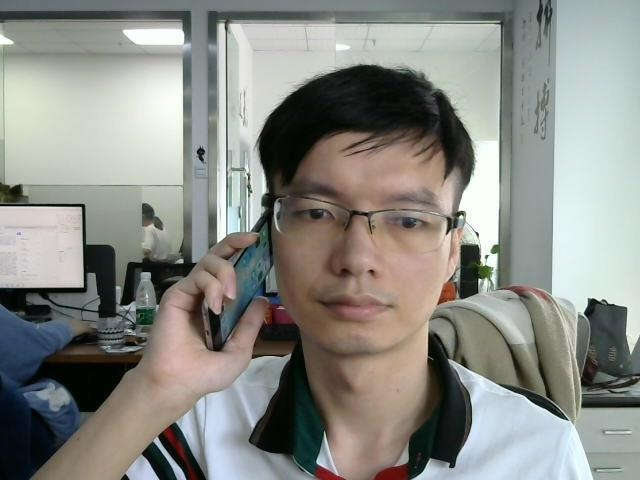hand: (164, 223, 263, 383)
